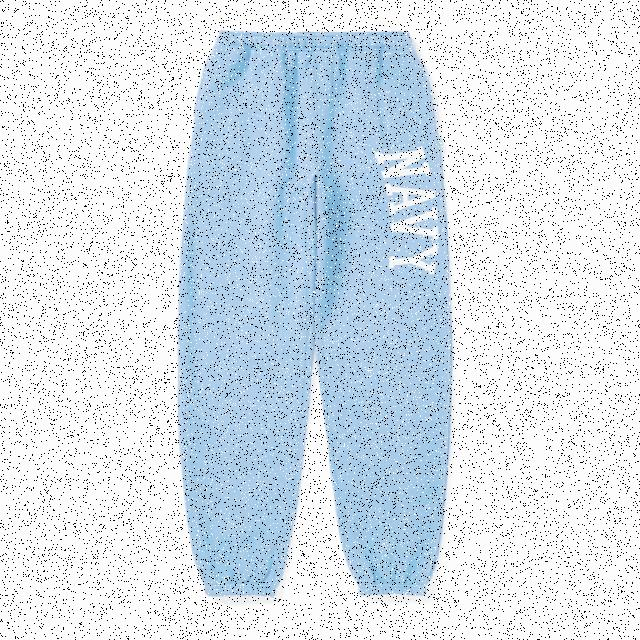Blouse_deep: (180, 29, 450, 600)
